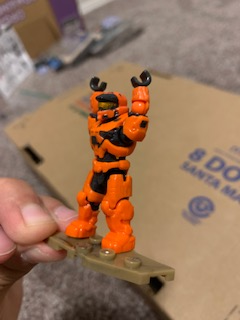spartan: (66, 69, 152, 255)
up: (83, 69, 153, 157)
